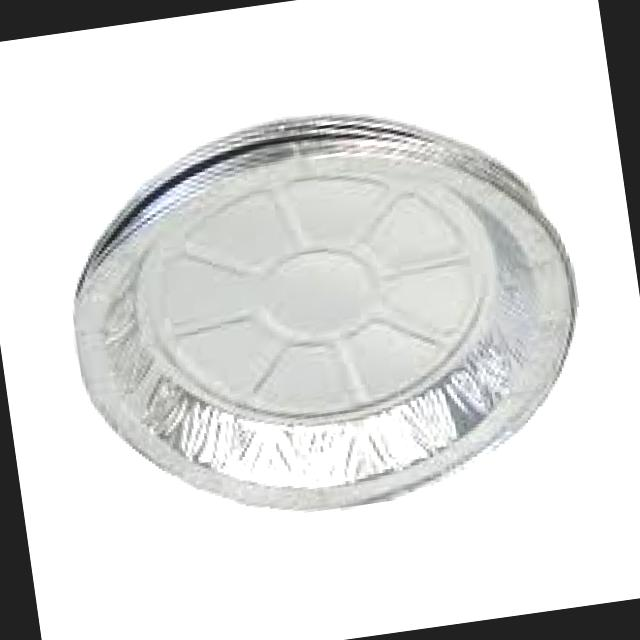kim_loai: (70, 114, 580, 516)
